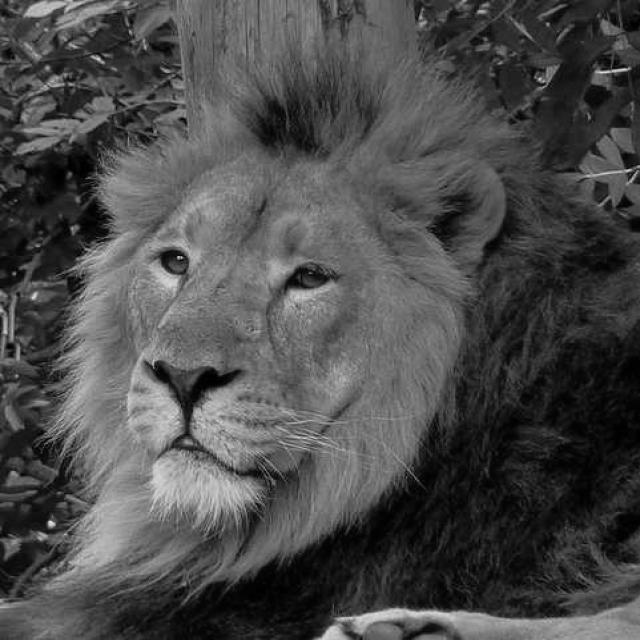Lion: (56, 31, 544, 640)
